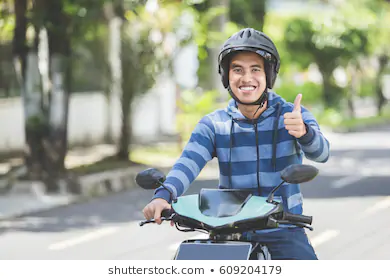helmet: (203, 12, 315, 259)
